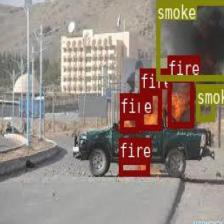fire: (167, 76, 193, 127), (139, 89, 161, 129), (118, 158, 149, 176), (119, 113, 138, 132)
smoke: (156, 0, 224, 79), (196, 83, 214, 120)
